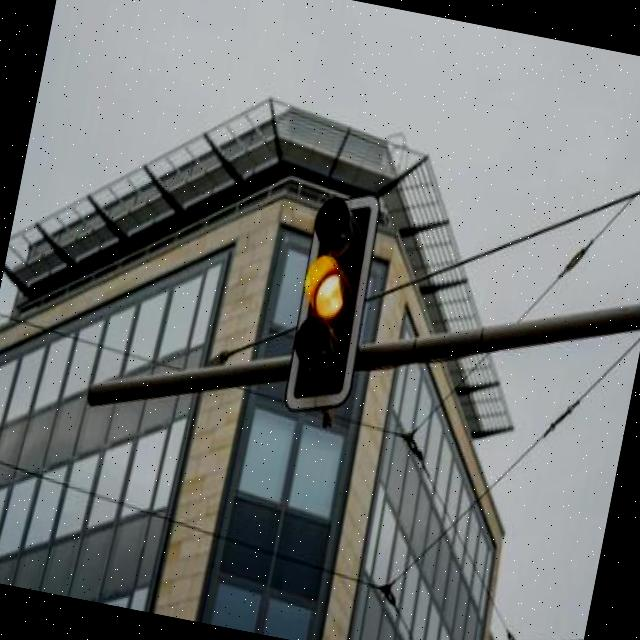yellow_light: (286, 210, 371, 396)
